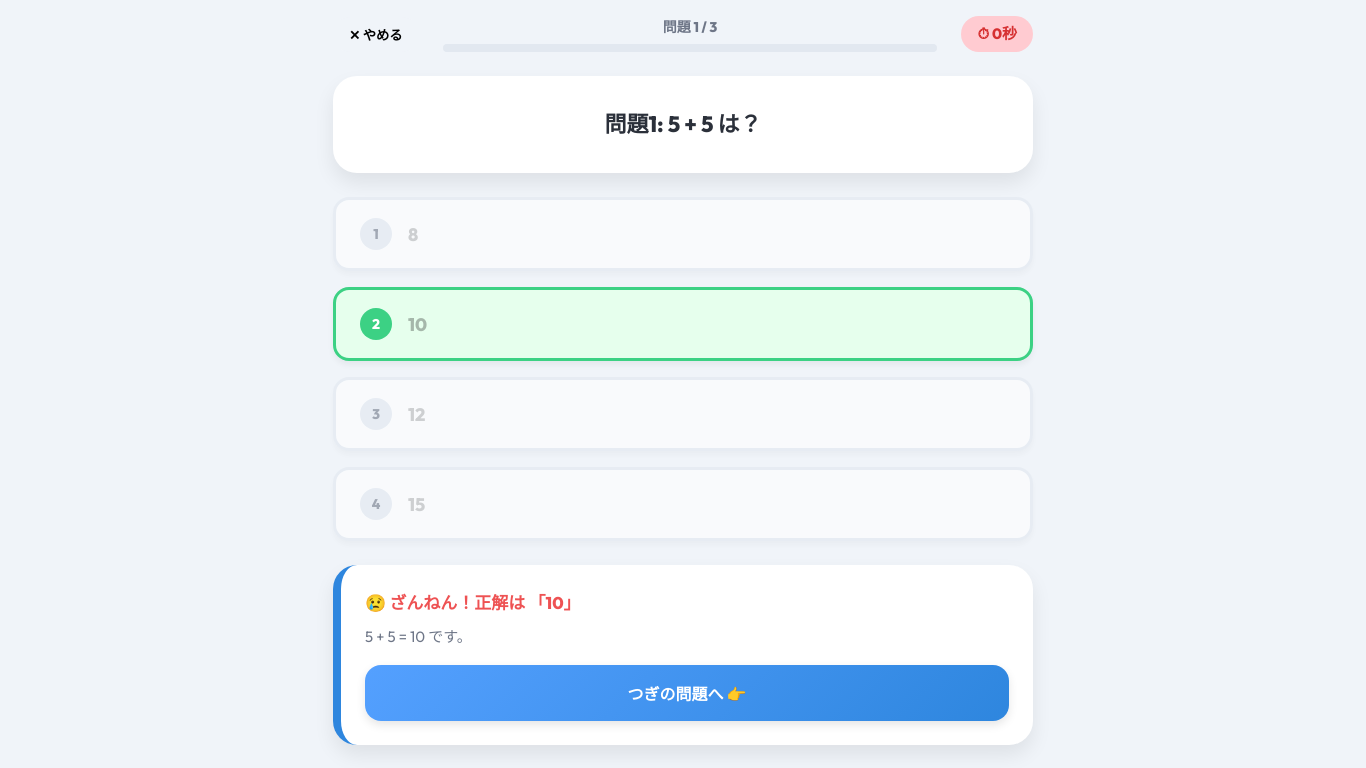
Test: クイズ連打・放置防止テスト (Quiz Anti-Gaming Tests) › 2問連続でタイムアウト(放置)した場合に「きゅうけいちゅう」一時停止画面が表示されること
# 1問目回答後、次の問題へ進む
Click the button "つぎの問題へ 👉": (687, 693) [365, 665, 1009, 721]
Wait 31000 ms
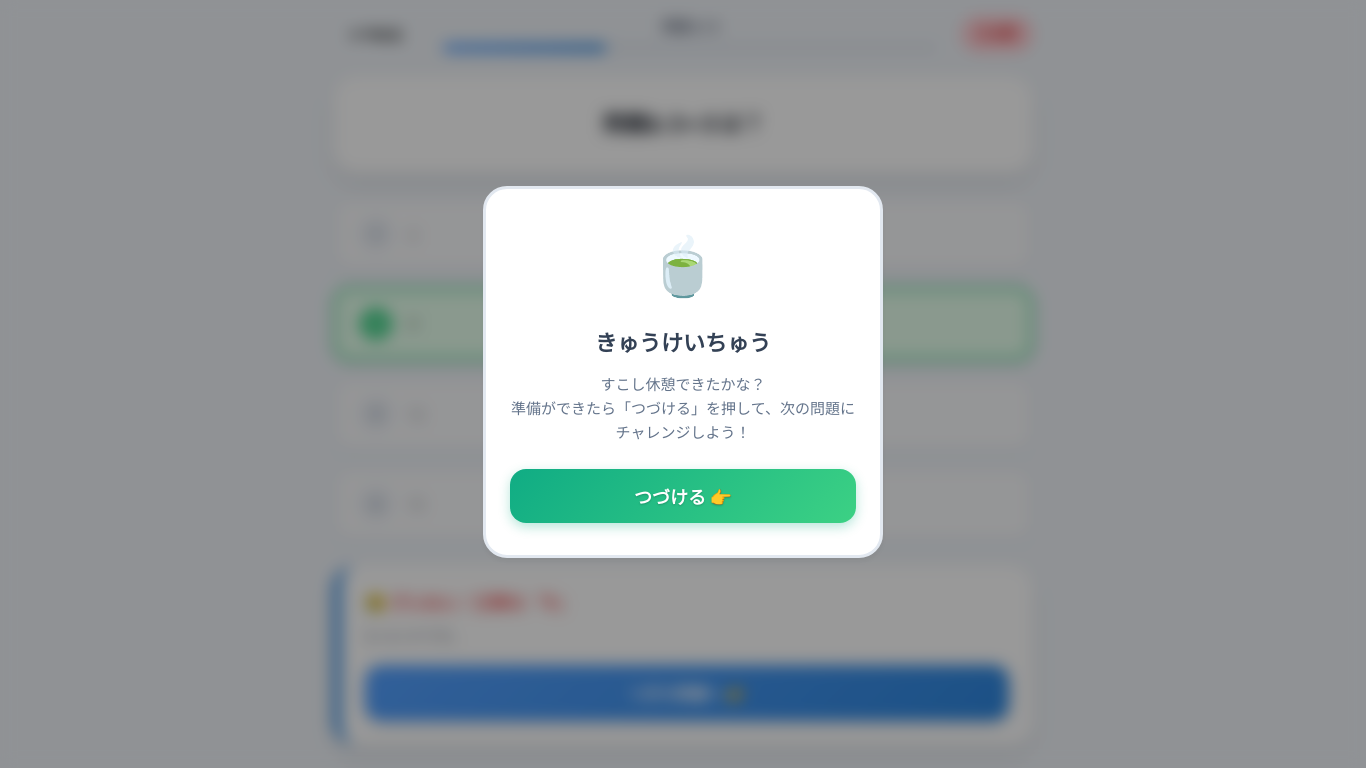
Expected: the heading "きゅうけいちゅう" is shown, [595, 329, 771, 357]
Expected: the button "つづける 👉" is shown
# つづけるボタンを押すとモーダルが閉じること
Click the button "つづける 👉": (683, 496) [510, 469, 856, 523]
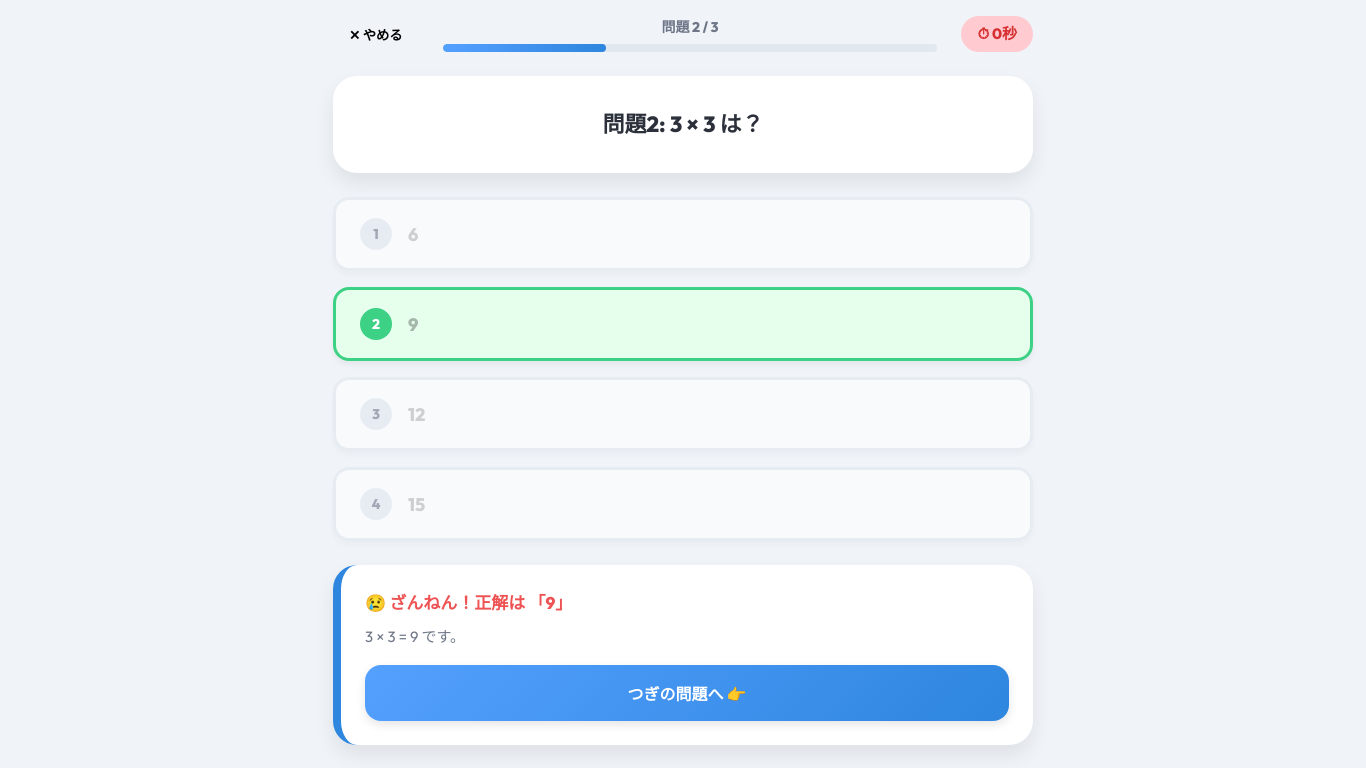
Expected: the heading "きゅうけいちゅう" is gone
